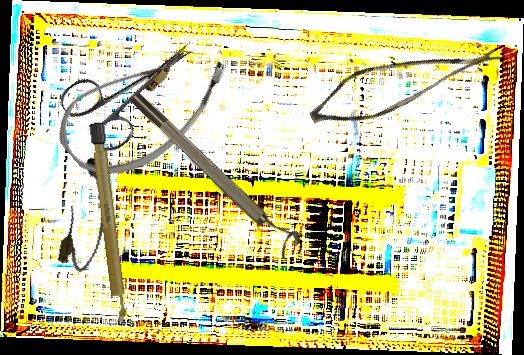Cannula: (44, 12, 242, 200), (55, 154, 120, 275)
Fixation Ring: (127, 82, 304, 260)
Iris Scissors: (55, 14, 213, 161)
Micro Scissor: (302, 5, 503, 156)
Scalpel Handle: (87, 120, 130, 328)
